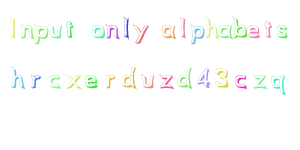3: (214, 67, 229, 88)
4: (196, 67, 211, 89)
I: (5, 16, 25, 41)
a: (160, 23, 177, 39), (217, 23, 233, 39)
b: (232, 15, 247, 38)
c: (234, 73, 247, 89), (48, 74, 60, 89)
d: (121, 66, 137, 89), (177, 67, 191, 88)
e: (246, 22, 261, 39), (84, 74, 97, 89)
h: (205, 15, 220, 39), (10, 66, 25, 87)
l: (176, 15, 188, 40), (121, 15, 132, 40)
n: (19, 23, 35, 39), (105, 23, 120, 40)
o: (90, 23, 105, 40)
p: (189, 23, 205, 45), (34, 24, 49, 45)
q: (270, 74, 286, 96)
r: (30, 73, 42, 89), (104, 73, 115, 90)
s: (276, 23, 288, 38)
t: (262, 18, 274, 38), (64, 18, 75, 39)
u: (49, 24, 63, 39), (141, 73, 154, 88)
x: (65, 73, 81, 89)
y: (132, 21, 149, 45)
z: (158, 73, 174, 89), (251, 73, 268, 88)
